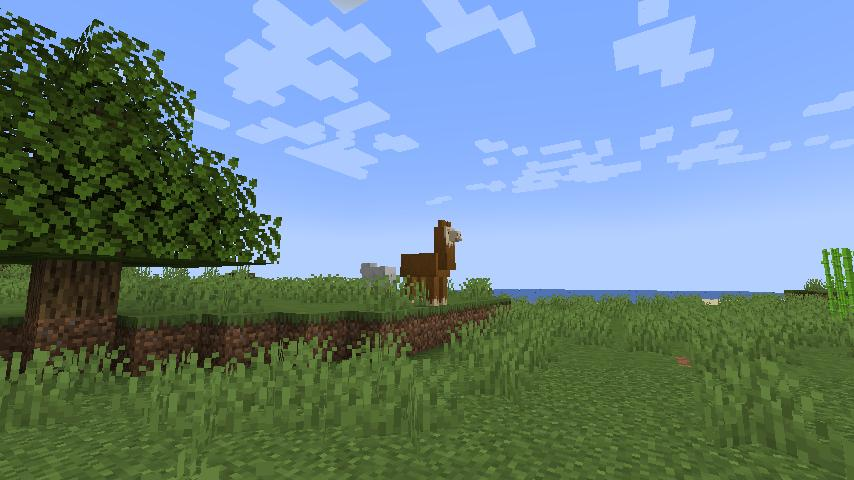llama: (402, 218, 464, 308)
